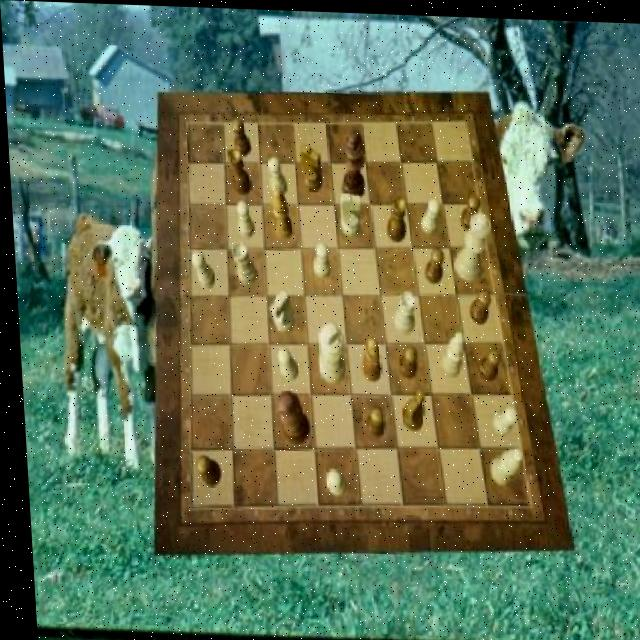bishop: (268, 185, 291, 239), (355, 335, 377, 381)
black-bishop: (336, 126, 366, 200)
black-king: (395, 386, 421, 429), (299, 142, 321, 190)
black-knight: (464, 286, 488, 322), (189, 454, 215, 486), (473, 346, 498, 379), (420, 244, 442, 281), (457, 192, 479, 228), (230, 116, 250, 155), (393, 341, 414, 376), (361, 404, 381, 437)
black-pawn: (270, 389, 305, 445)
black-queen: (226, 147, 250, 195), (382, 192, 405, 239)
black-rook: (483, 443, 519, 482), (435, 327, 462, 374)
white-bishop: (311, 319, 340, 383)
white-king: (266, 287, 291, 330), (337, 190, 361, 234)
white-knight: (187, 251, 212, 288), (486, 401, 513, 433), (418, 196, 439, 233), (265, 155, 284, 194), (233, 199, 252, 237), (308, 241, 327, 278), (273, 347, 294, 380), (320, 466, 341, 494)
white-pawn: (449, 208, 491, 278)
white-queen: (228, 240, 254, 283), (387, 288, 412, 331)
